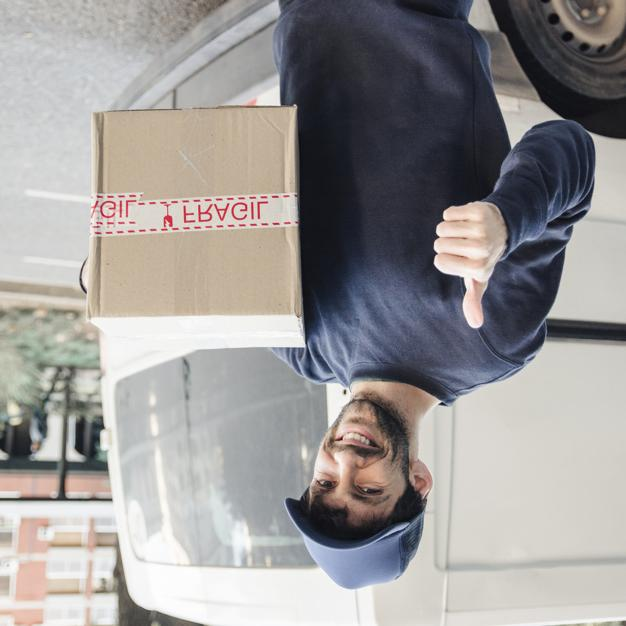thumbsdown: (432, 203, 492, 328)
